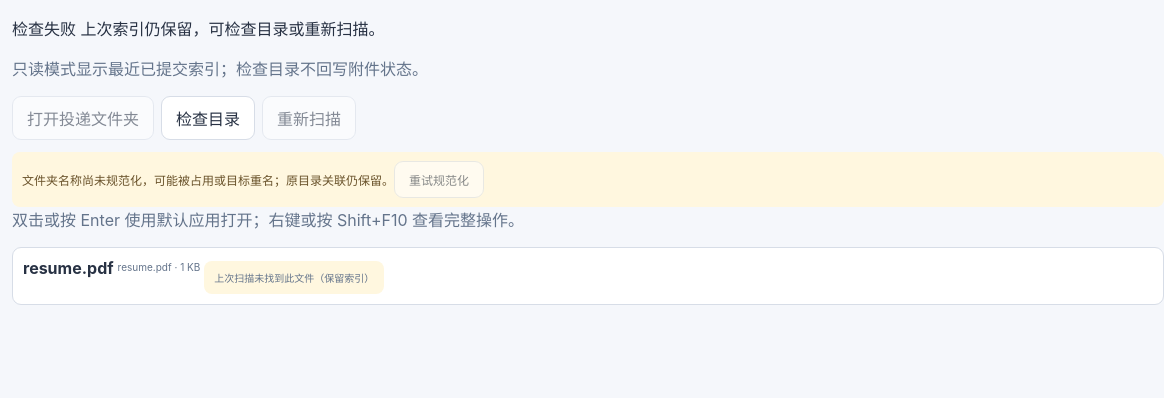
Scenario: file health feedback › retries failed checks and permits read-only opening without updating indexes
The image size is (1164, 398).
Expected: the message shows "检查失败", [12, 19, 76, 39]
Click the button "检查目录": point(208, 118) [161, 96, 255, 140]
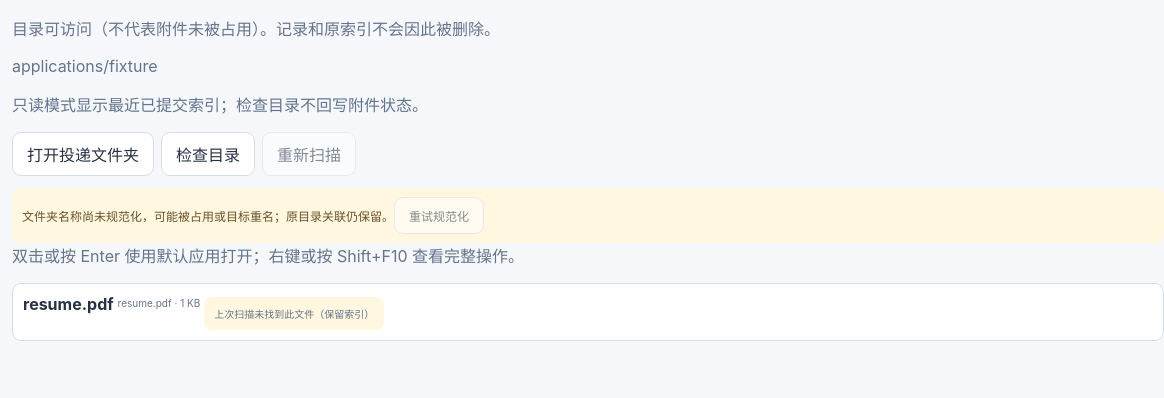
Expected: the button "重新扫描" is disabled, [262, 132, 356, 176]
Expected: the text "目录可访问（不代表附件未被占用）。记录和原索引不会因此被删除。" is shown, [12, 19, 500, 39]
Right-click the text "resume.pdf": point(68, 304) [23, 294, 114, 314]
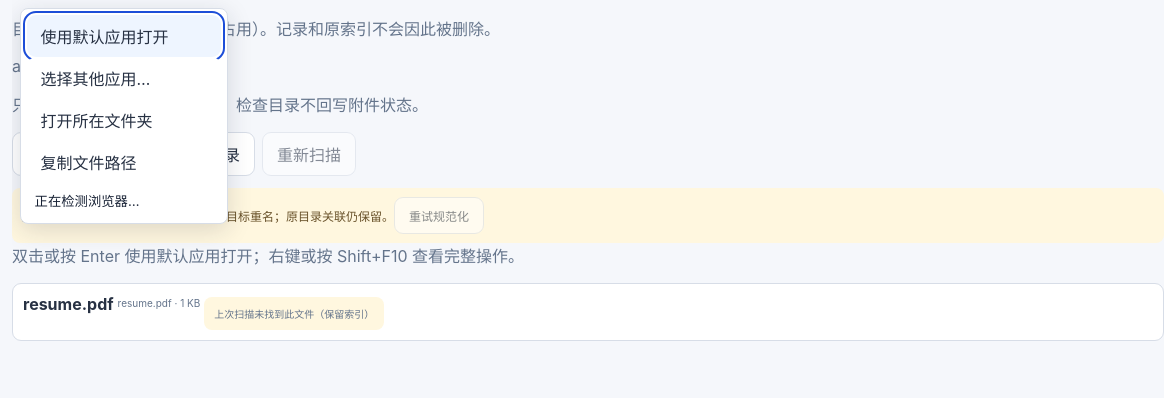
Click the menu item "使用默认应用打开": point(124, 36) [27, 15, 221, 57]
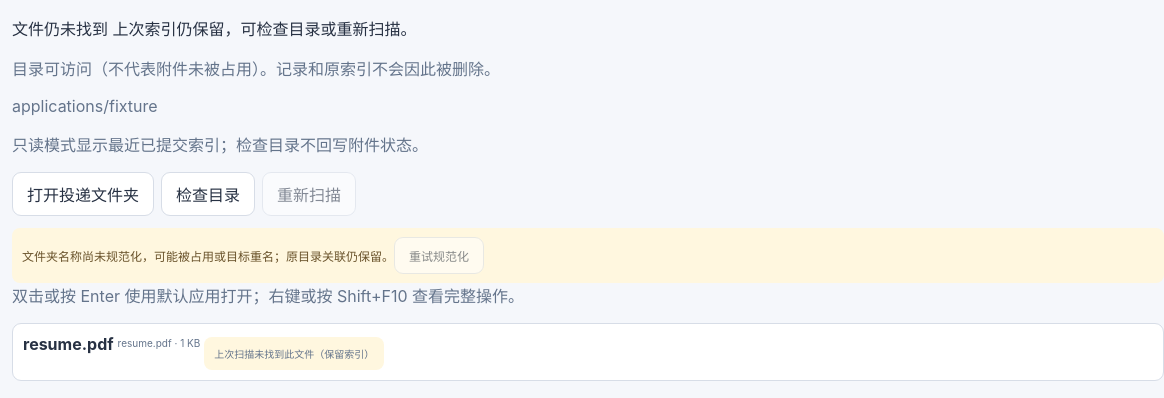
Expected: the message "文件仍未找到 上次索引仍保留，可检查目录或重新扫描。" is shown, [12, 19, 416, 39]
